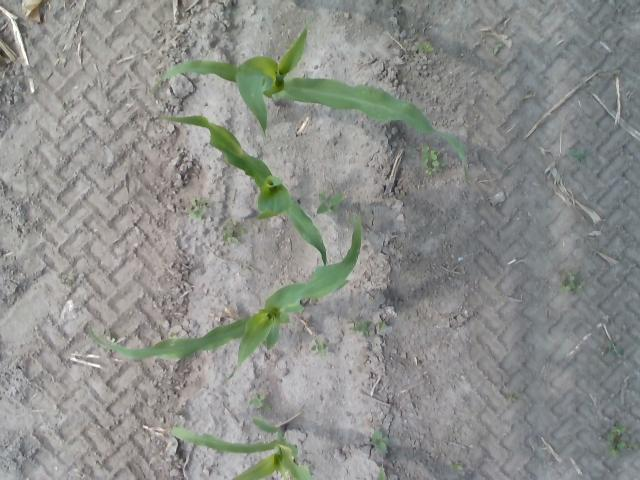Maize: (148, 21, 473, 178), (82, 216, 360, 382), (159, 114, 328, 266), (170, 417, 388, 480)
Weeds: (602, 423, 638, 458), (556, 268, 584, 295), (420, 146, 446, 174), (188, 196, 213, 221), (316, 193, 344, 214), (220, 220, 244, 243), (601, 341, 623, 364), (348, 316, 370, 338), (369, 430, 389, 454), (248, 394, 274, 412), (310, 338, 329, 355), (416, 40, 434, 54), (569, 149, 585, 163), (508, 391, 522, 403), (449, 462, 464, 472), (107, 332, 118, 343), (494, 42, 504, 54), (348, 214, 358, 223), (377, 320, 388, 328)
